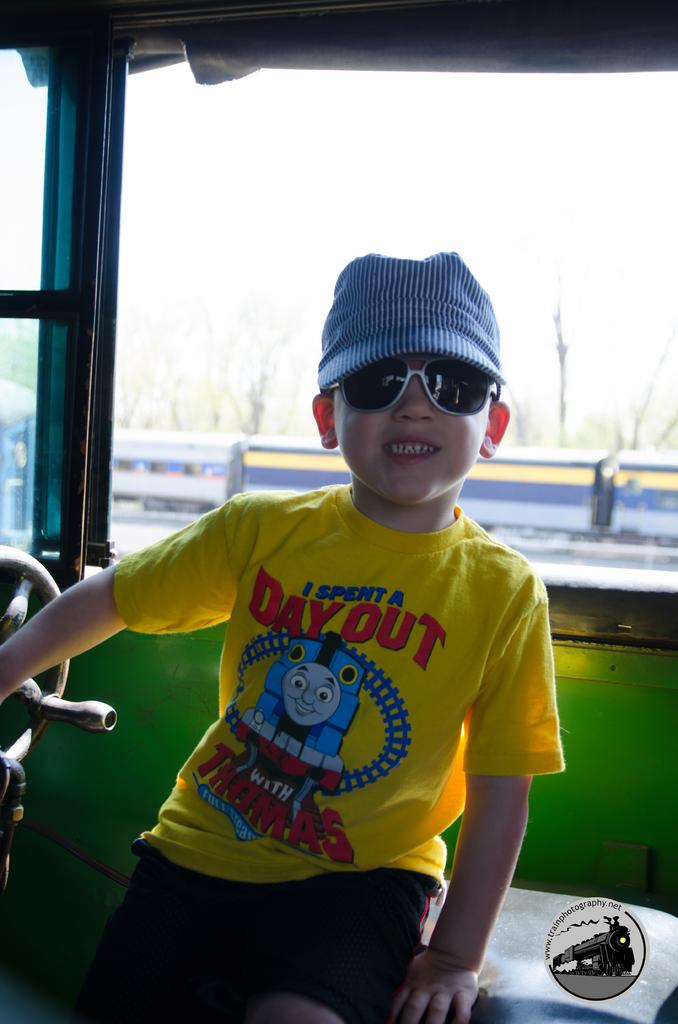Hat: (310, 251, 507, 390)
